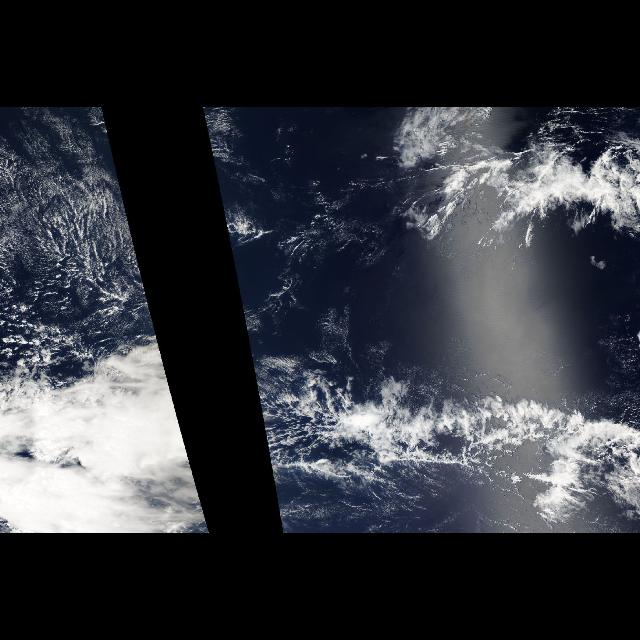Fish: (247, 331, 639, 533), (361, 120, 639, 230)
Gravel: (1, 136, 154, 328)
Sugar: (1, 130, 161, 352)
